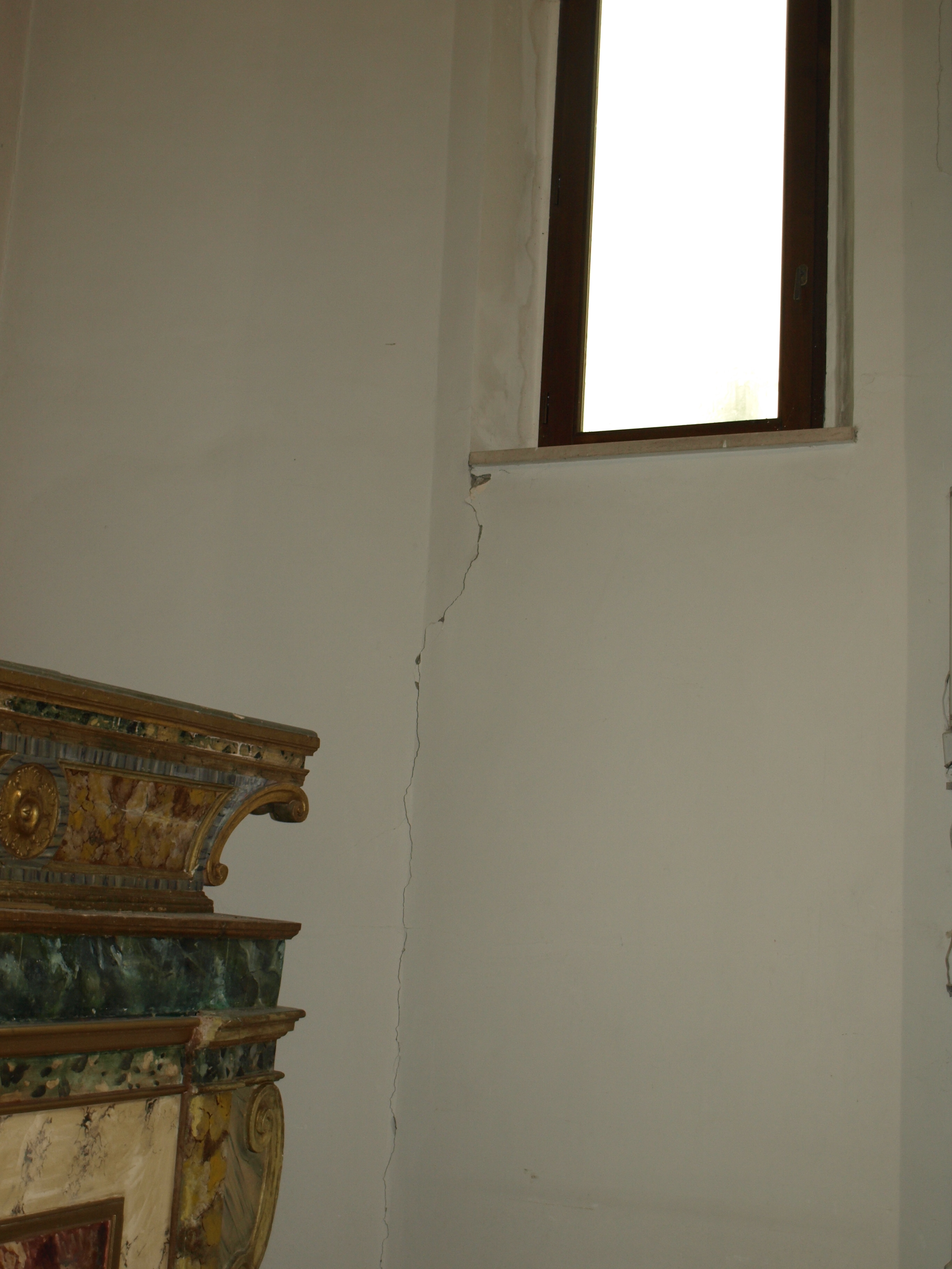Crack: (354, 448, 512, 1219)
